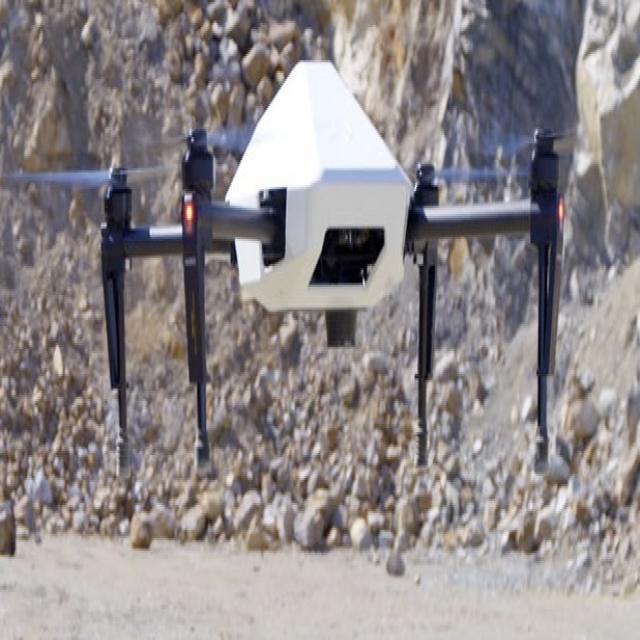drone: (0, 59, 615, 499)
